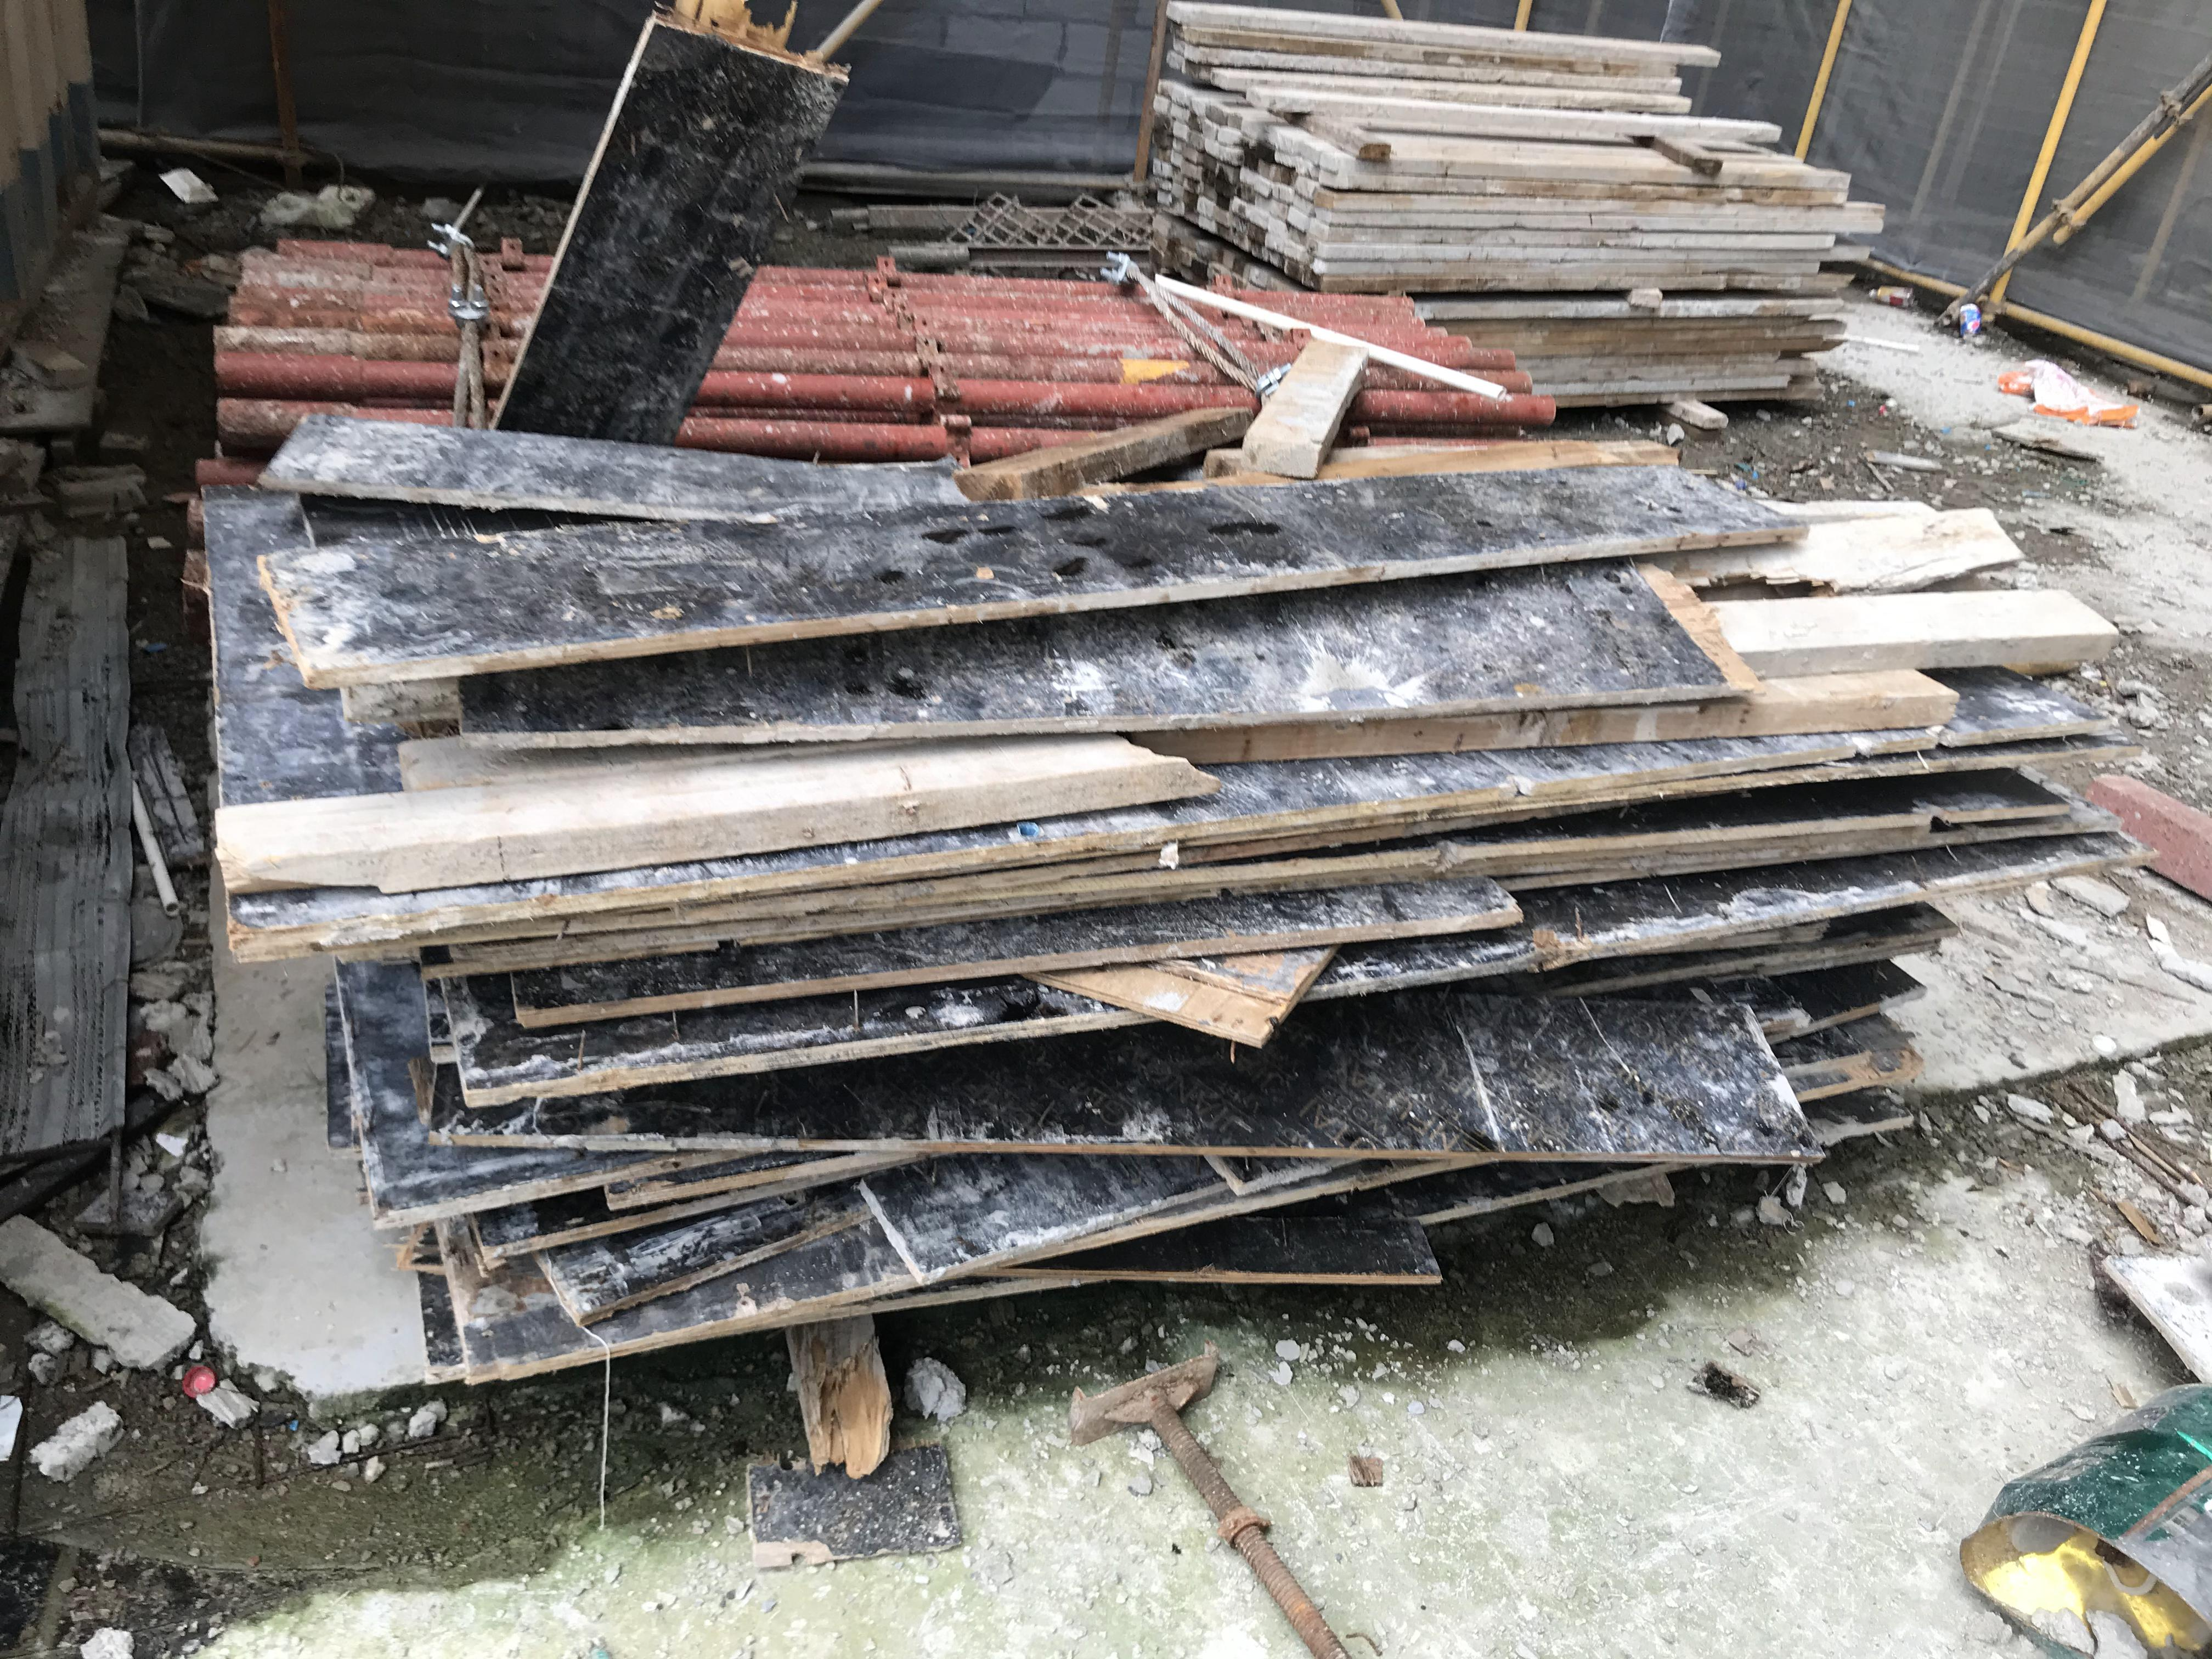board: (239, 474, 2120, 1377)
wood: (1160, 0, 1850, 397)
